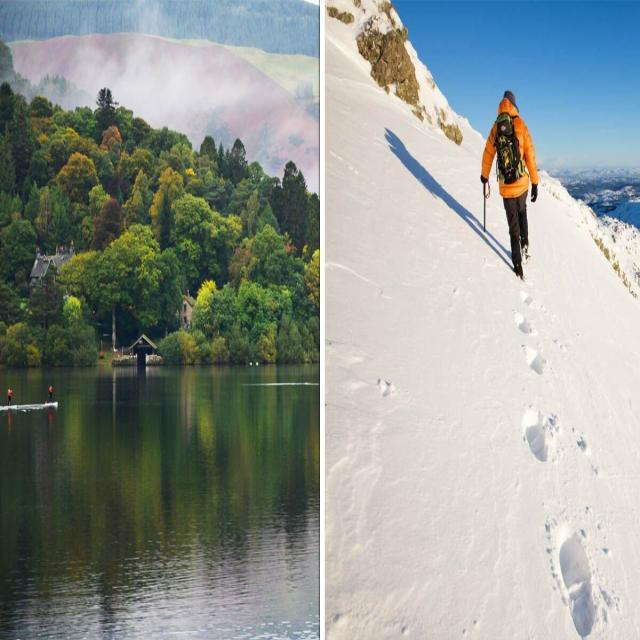Walking: (476, 71, 544, 266)
